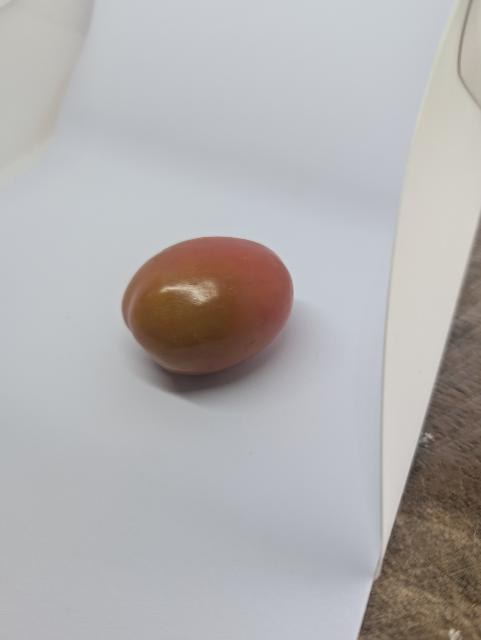turning: (112, 232, 297, 379)
